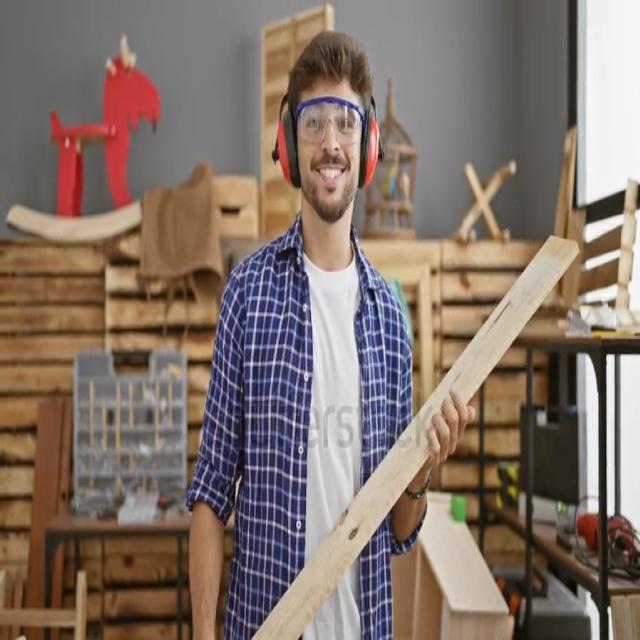Ear-Protection: (270, 99, 298, 188), (360, 95, 383, 190)
Glasses: (295, 97, 363, 147)
